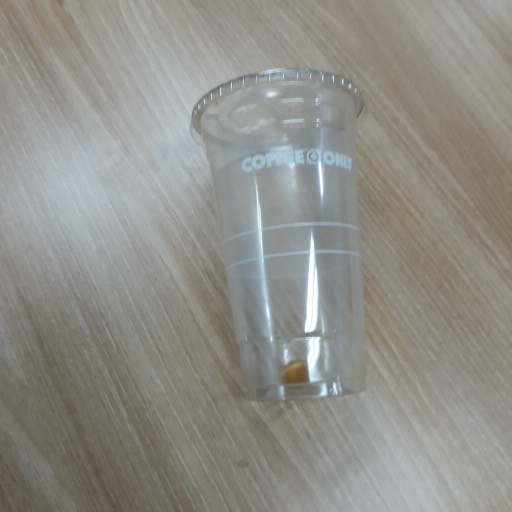Plastic_2: (191, 68, 376, 403)
